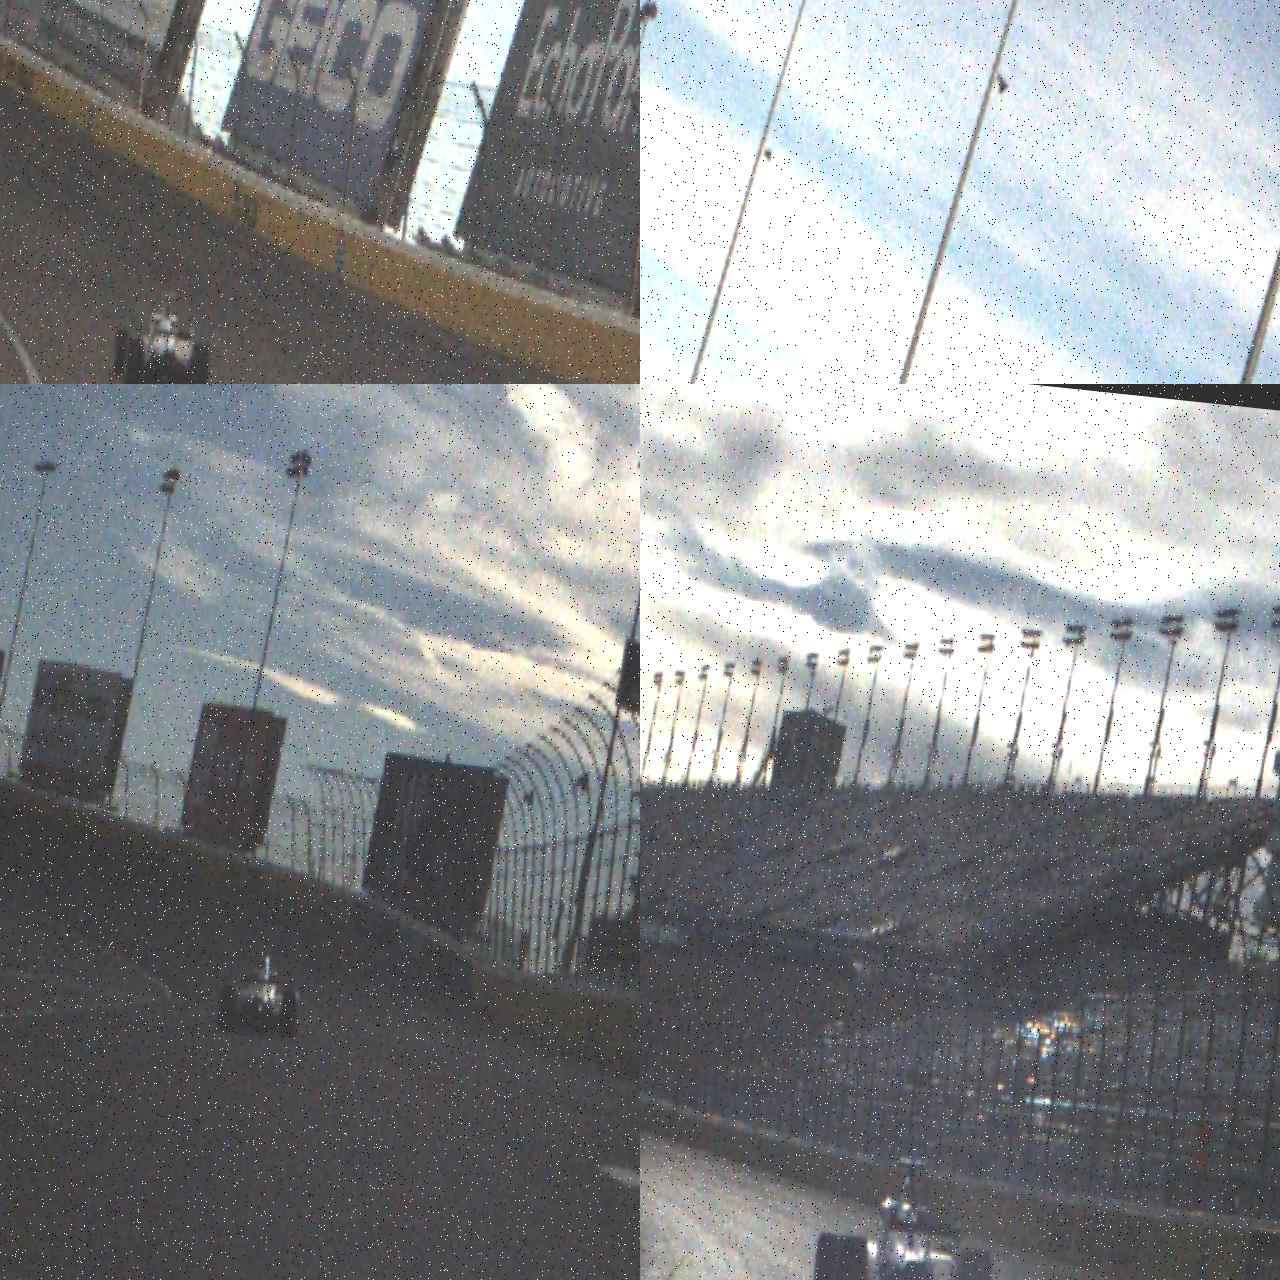AV: (806, 1148, 1005, 1280), (109, 284, 217, 384), (216, 946, 305, 1040)
Wheel: (828, 1235, 869, 1280), (809, 1232, 842, 1280), (949, 1247, 995, 1280), (279, 990, 301, 1041), (121, 338, 144, 384), (217, 983, 238, 1034), (111, 328, 131, 376), (189, 343, 211, 384)
